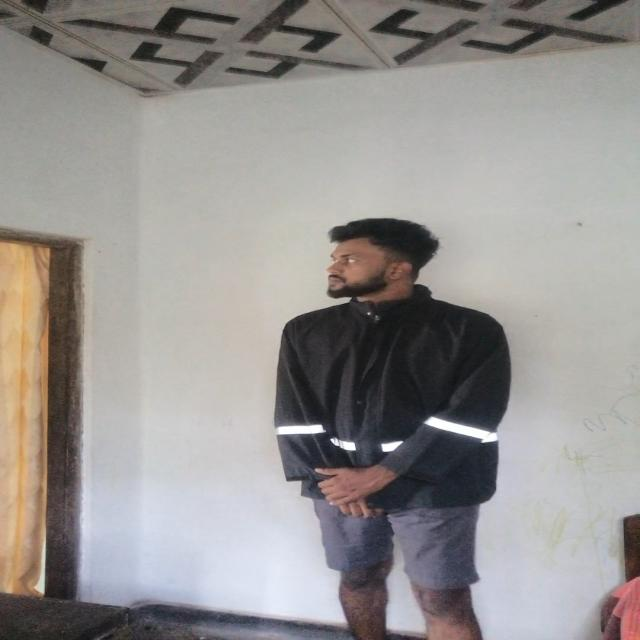Jacket_Wearer: (245, 282, 541, 487)
